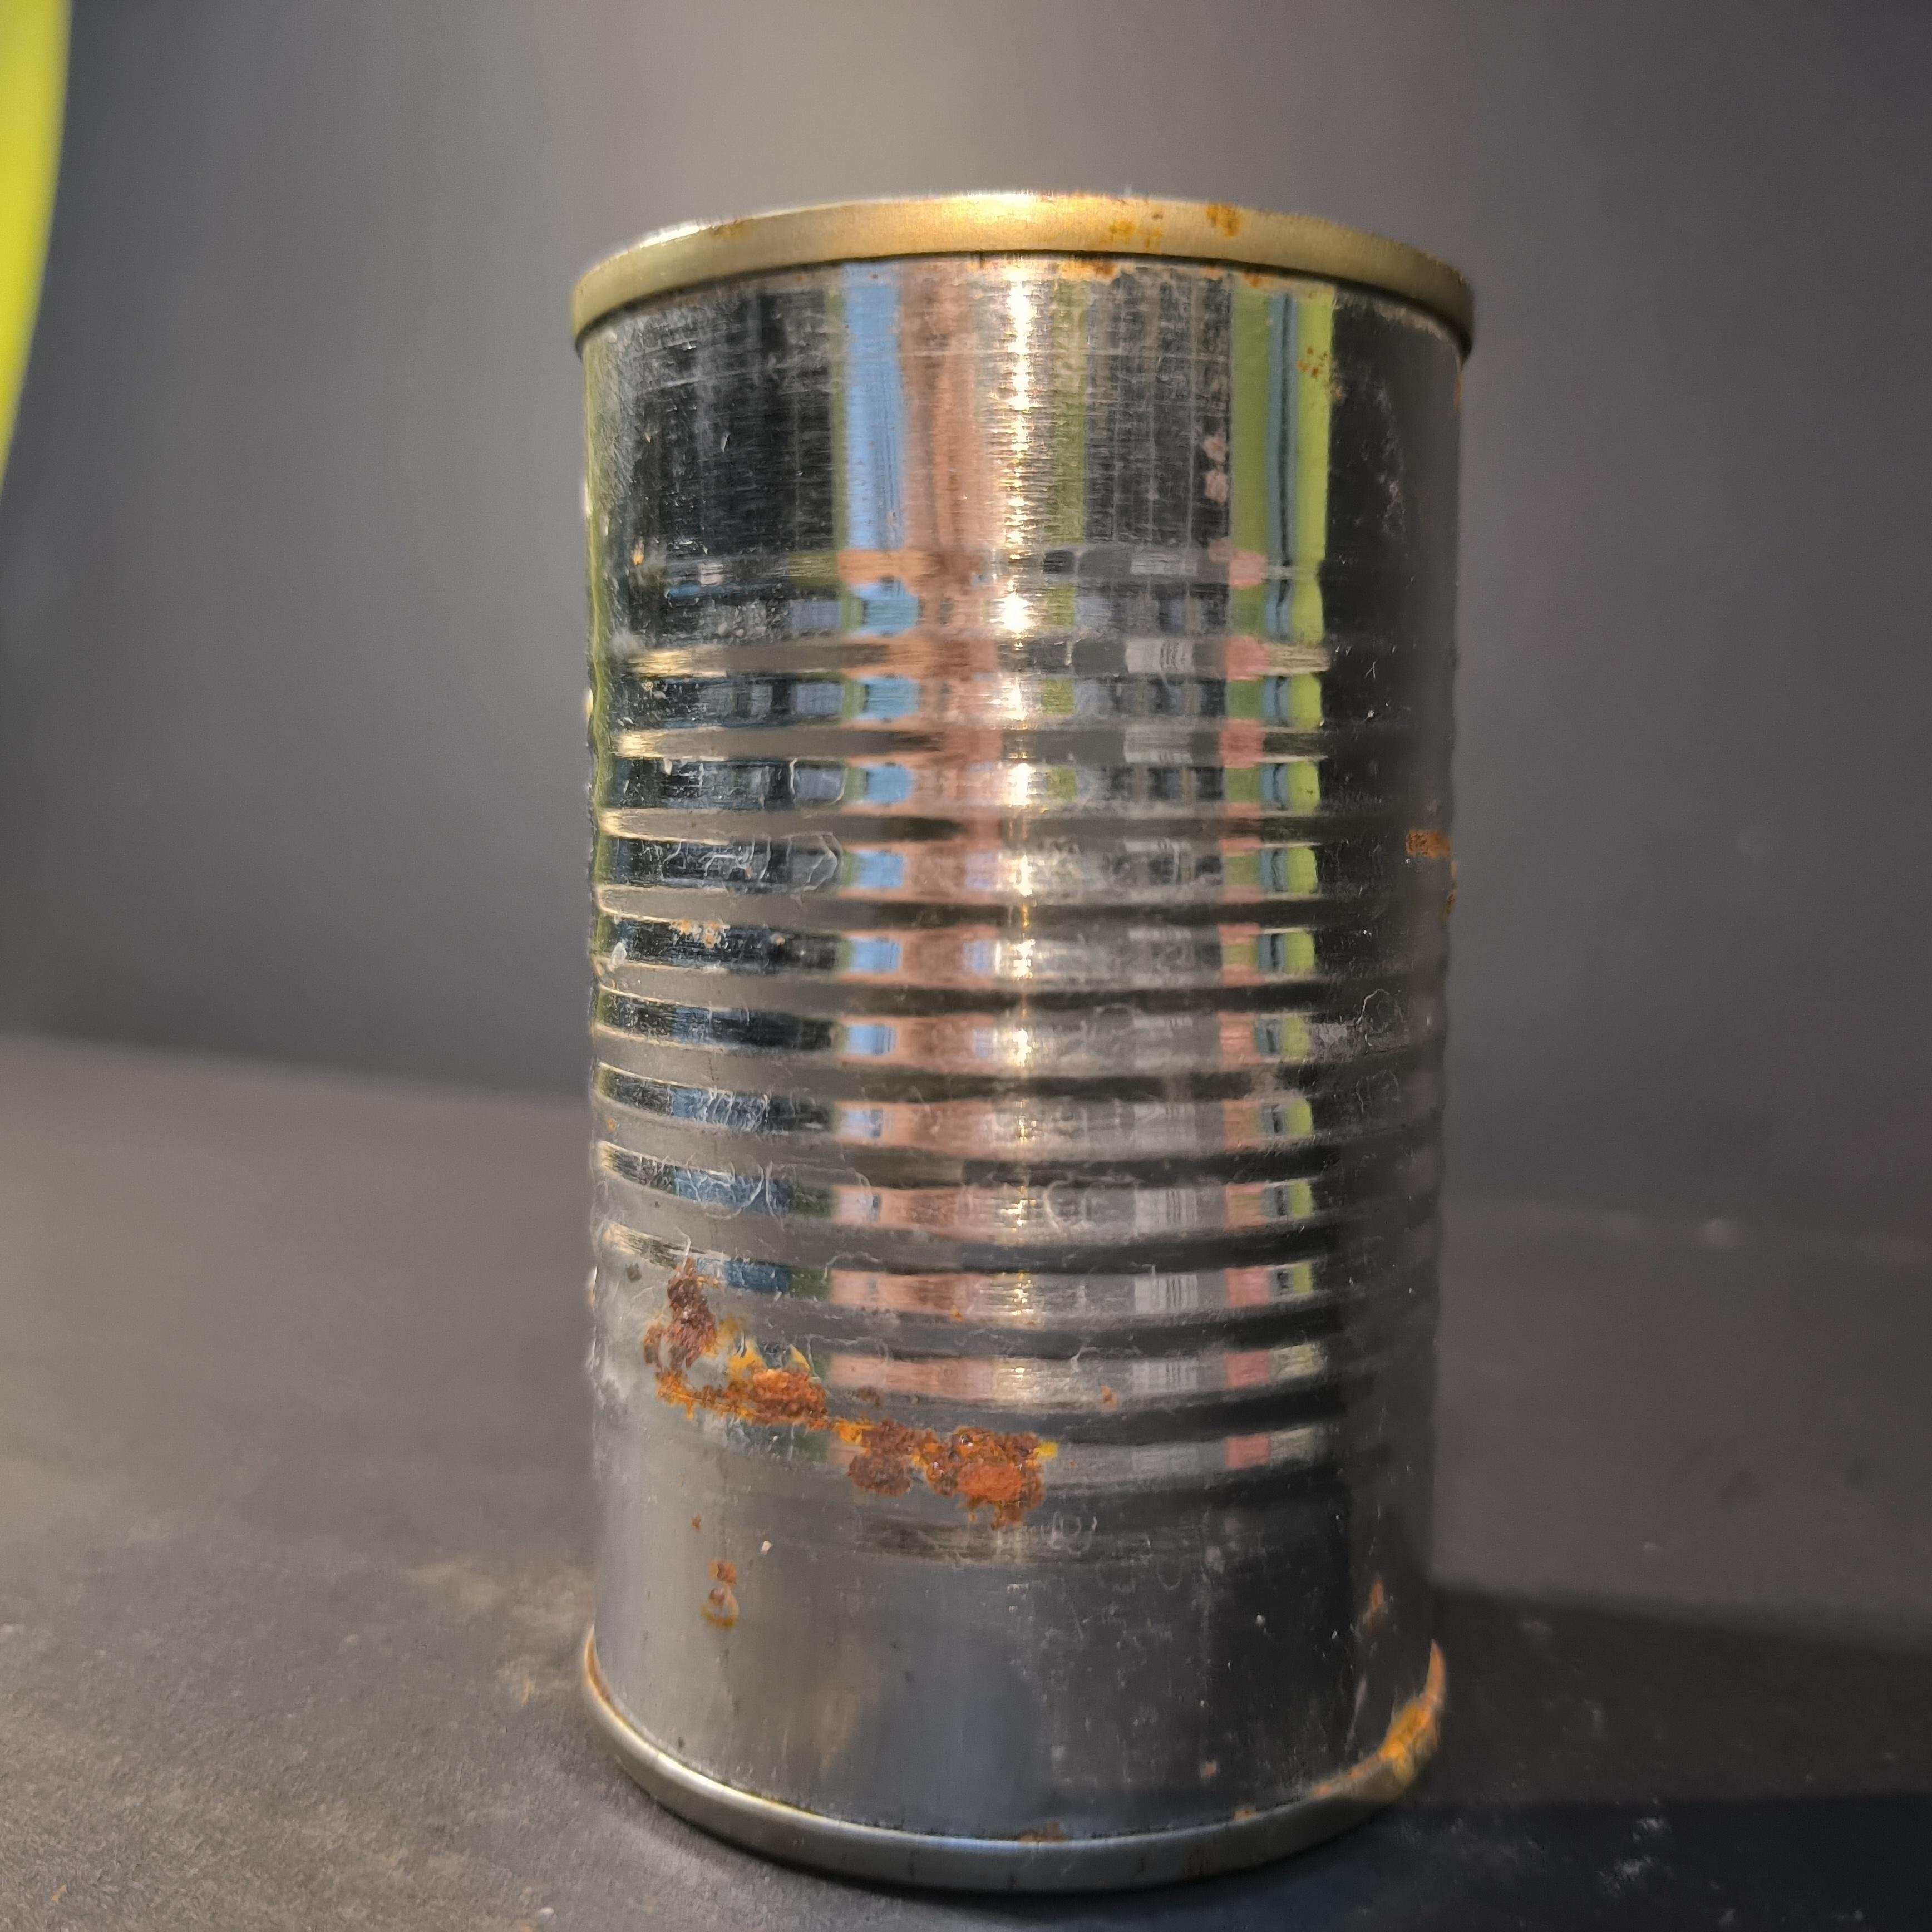Rusted: (543, 166, 1488, 1886)
